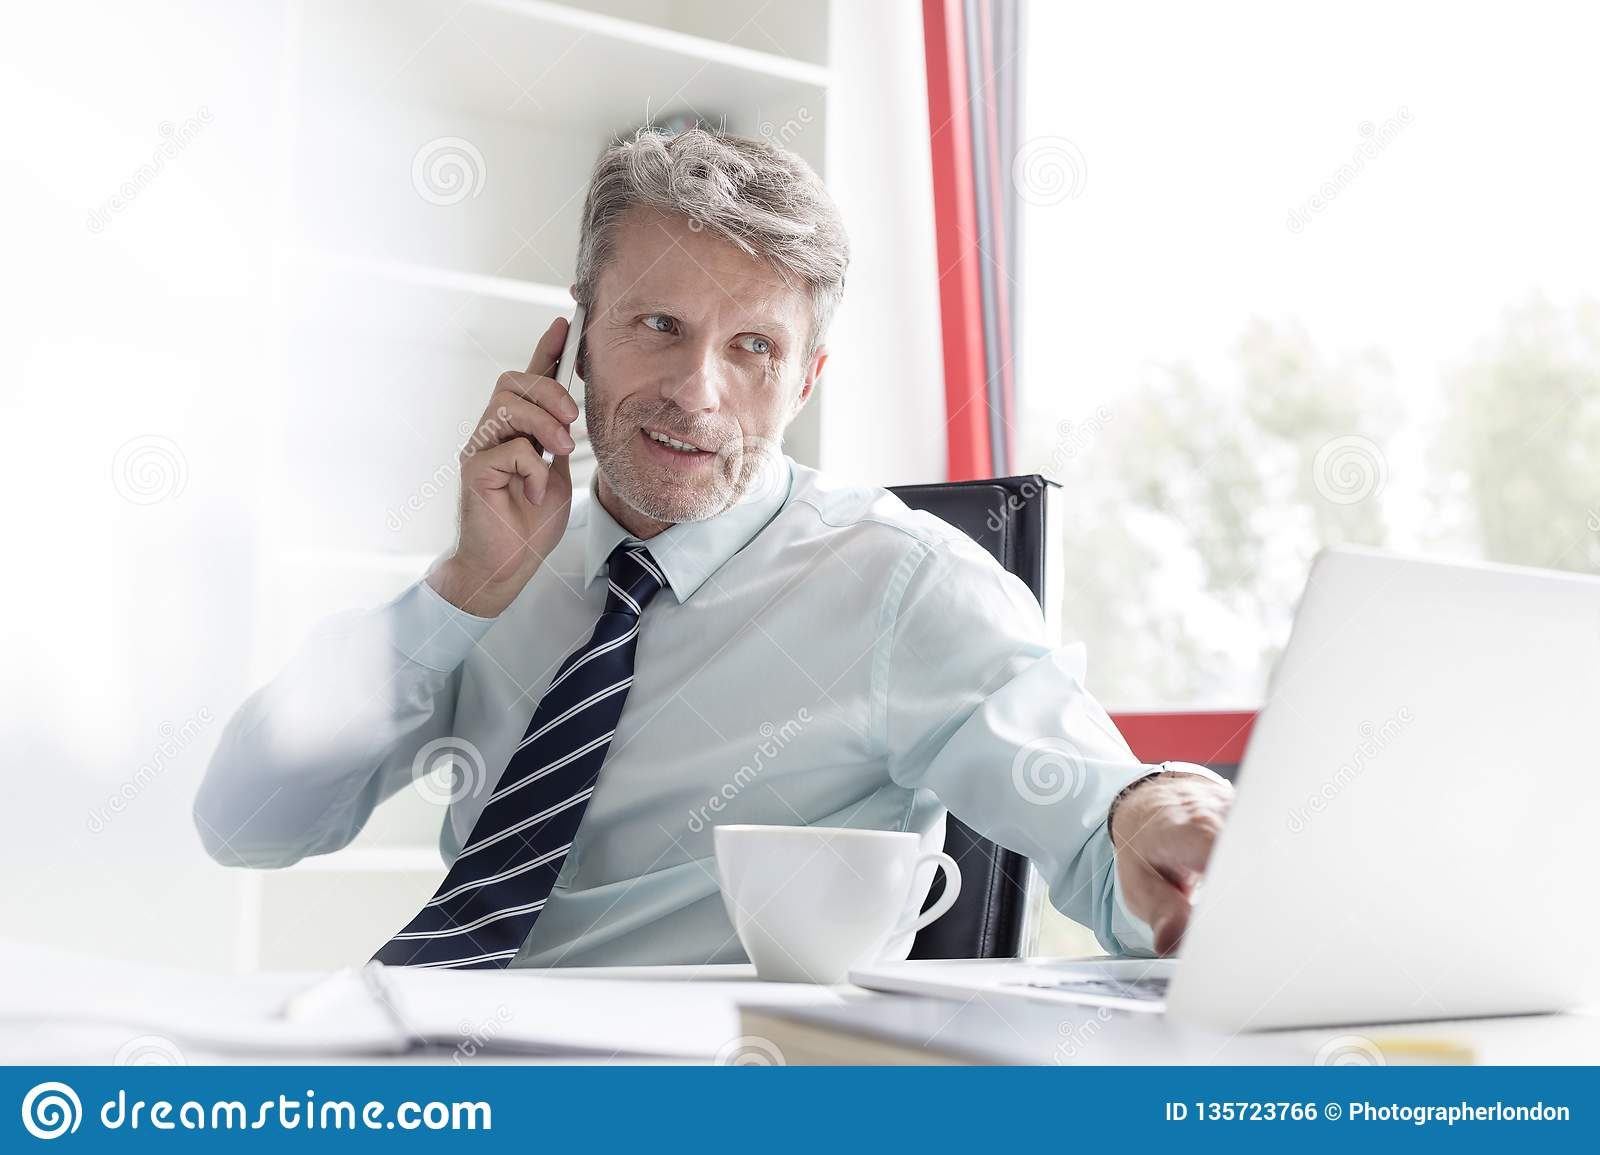phone: (527, 299, 601, 486)
talk: (452, 269, 793, 599)
